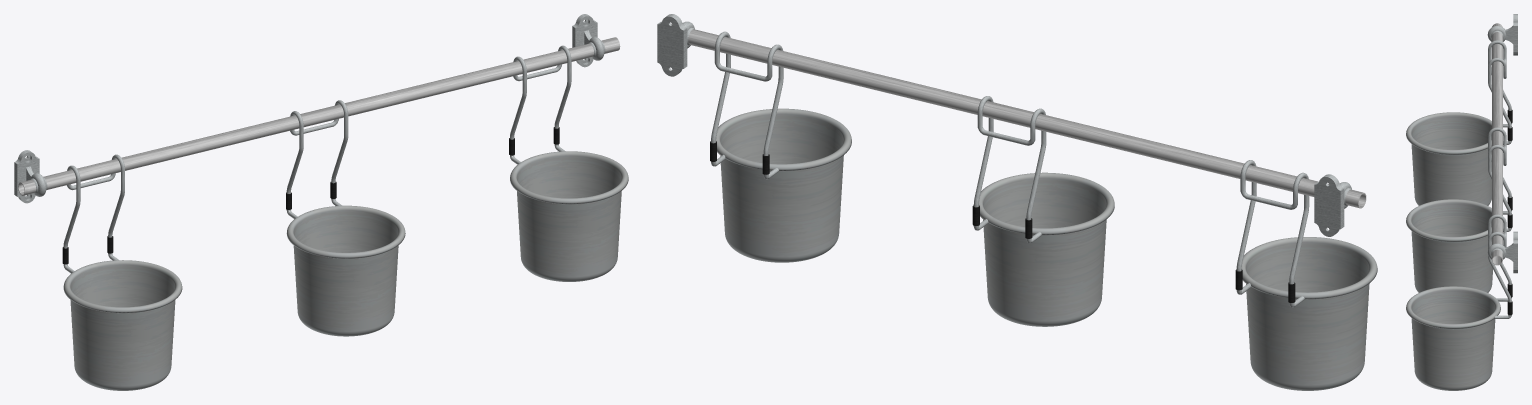
The model's file is 026 - stand divari ikea talaei.glb.
3 renders of one model, left to right at view 1: azimuth 30°, elevation 25°; view 2: azimuth 150°, elevation 25°; view 3: azimuth 270°, elevation 25°, orthographic. The views are drawn at different scales.
Parts seen in each view (by area): view 1: Group#12 [96250] (×3), Group#26 [123270], [26843] (×3), Group#2 [94774], Group#182 [94761]; view 2: Group#12 [96250] (×3), Group#26 [123270], [26843] (×3), Group#182 [94761], Group#2 [94774]; view 3: Group#12 [96250] (×3), Group#26 [123270], [26843] (×3), Group#4 [94772] (×2), Group#3 [94773] (×2), Group#182 [94761], Group#2 [94774].
Part boxes in pixels (bbox=[...]): Group#12 [96250] (×3): bbox=[63, 151, 628, 390]; Group#26 [123270]: bbox=[18, 37, 620, 195]; [26843] (×3): bbox=[63, 45, 604, 313]; Group#2 [94774]: bbox=[14, 150, 39, 203]; Group#182 [94761]: bbox=[572, 14, 597, 67]; Group#12 [96250] (×3): bbox=[716, 108, 1377, 390]; Group#26 [123270]: bbox=[671, 23, 1366, 208]; [26843] (×3): bbox=[711, 31, 1331, 307]; Group#182 [94761]: bbox=[657, 14, 687, 76]; Group#2 [94774]: bbox=[1314, 174, 1344, 236]; Group#12 [96250] (×3): bbox=[1406, 112, 1500, 390]; Group#26 [123270]: bbox=[1492, 23, 1502, 265]; [26843] (×3): bbox=[1419, 40, 1511, 329]; Group#4 [94772] (×2): bbox=[1487, 26, 1506, 259]; Group#3 [94773] (×2): bbox=[1505, 25, 1513, 261]; Group#182 [94761]: bbox=[1513, 231, 1517, 273]; Group#2 [94774]: bbox=[1513, 14, 1517, 55].
Size of the model in its own units: 0.8 by 0.2667 by 0.163.
5 materials, 5 textured.
